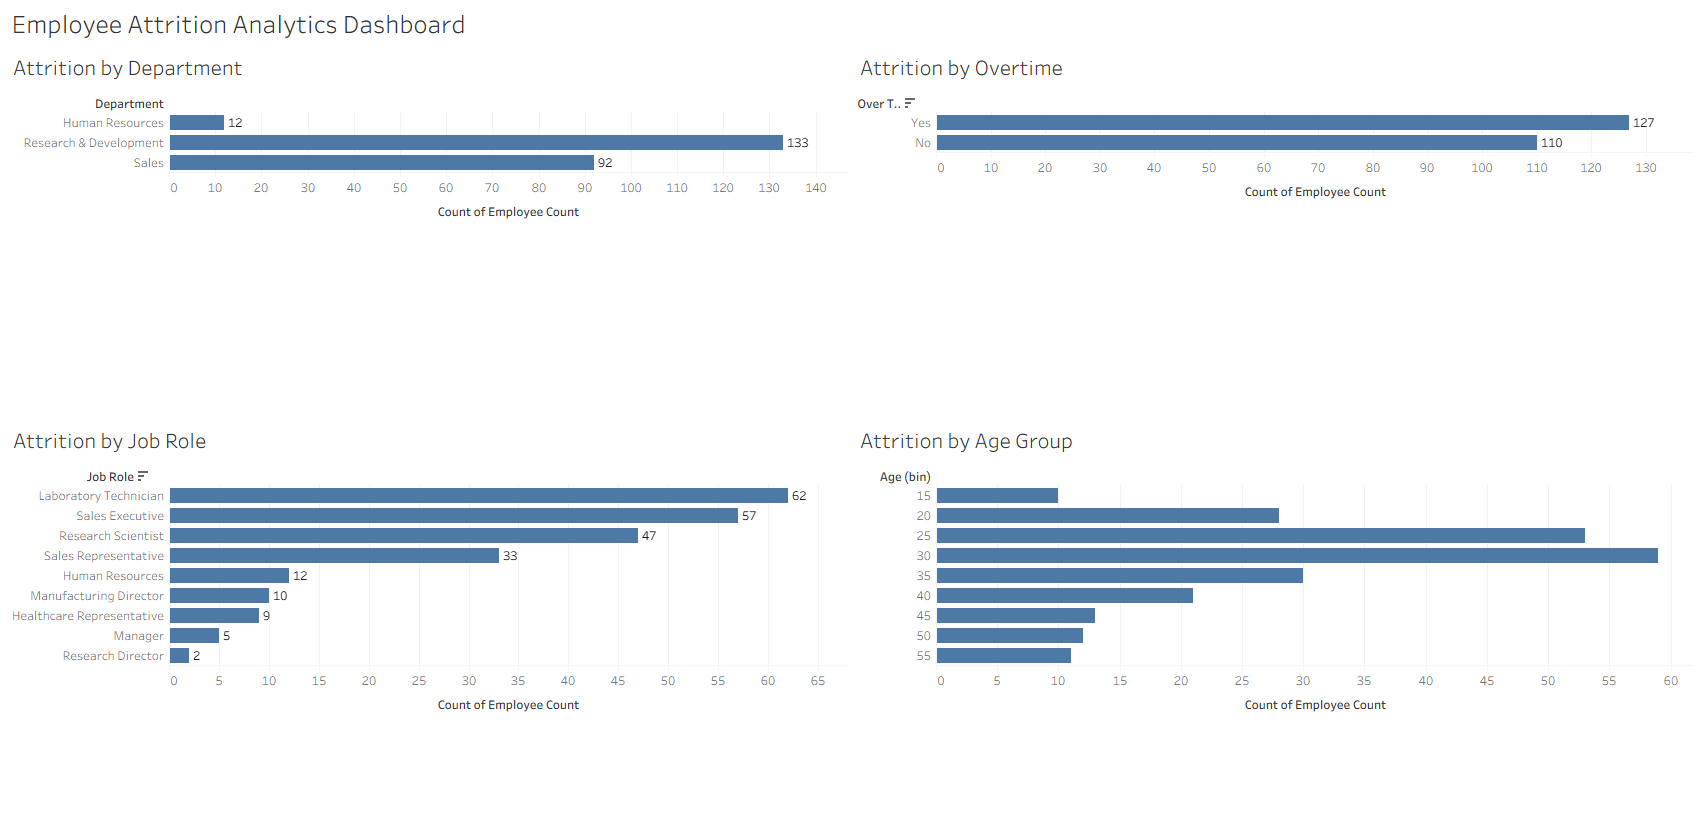

What the dashboard file says about the page in this screenshot:
{"tool":"tableau","page":{"name":"Dashboard 1","canvas":[1000,1000],"units":"permille","ordinal":0},"visuals":[{"type":"title","box":[4.7,8.5,990.6,44.5]},{"type":"worksheet","title":"Sheet 1","mark":"Automatic","rows":["Department"],"cols":["EmployeeCount"],"box":[4.7,53,495.3,394.8]},{"type":"worksheet","title":"Sheet 3","mark":"Bar","rows":["OverTime"],"cols":["EmployeeCount"],"box":[500,53,495.3,394.8]},{"type":"worksheet","title":"Sheet 2","mark":"Bar","rows":["JobRole"],"cols":["EmployeeCount"],"box":[4.7,447.8,495.3,543.8]},{"type":"worksheet","title":"Sheet 4","mark":"Automatic","rows":["Age (bin)"],"cols":["EmployeeCount"],"box":[500,447.8,495.3,543.8]}]}

Visuals, with their boxes on the dashboard's canvas, which has no fixed pixel size, in thousandths of its width and height (x1, y1, x2, y2). These are canvas units, not pixel positions in the 1706x822 screenshot, which may show the page scaled, cropped or inside an application window:
title: detection(5, 8, 995, 53)
"Sheet 1" worksheet: detection(5, 53, 500, 448)
"Sheet 3" worksheet (Bar marks): detection(500, 53, 995, 448)
"Sheet 2" worksheet (Bar marks): detection(5, 448, 500, 992)
"Sheet 4" worksheet: detection(500, 448, 995, 992)
